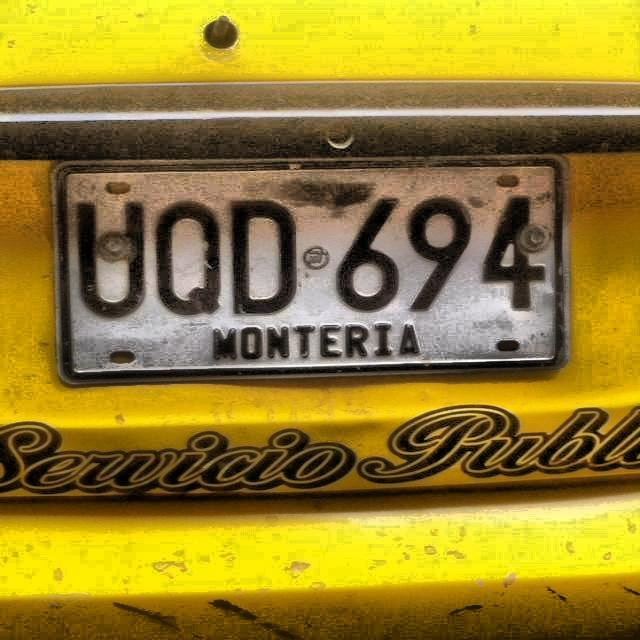plate: (56, 157, 566, 385)
